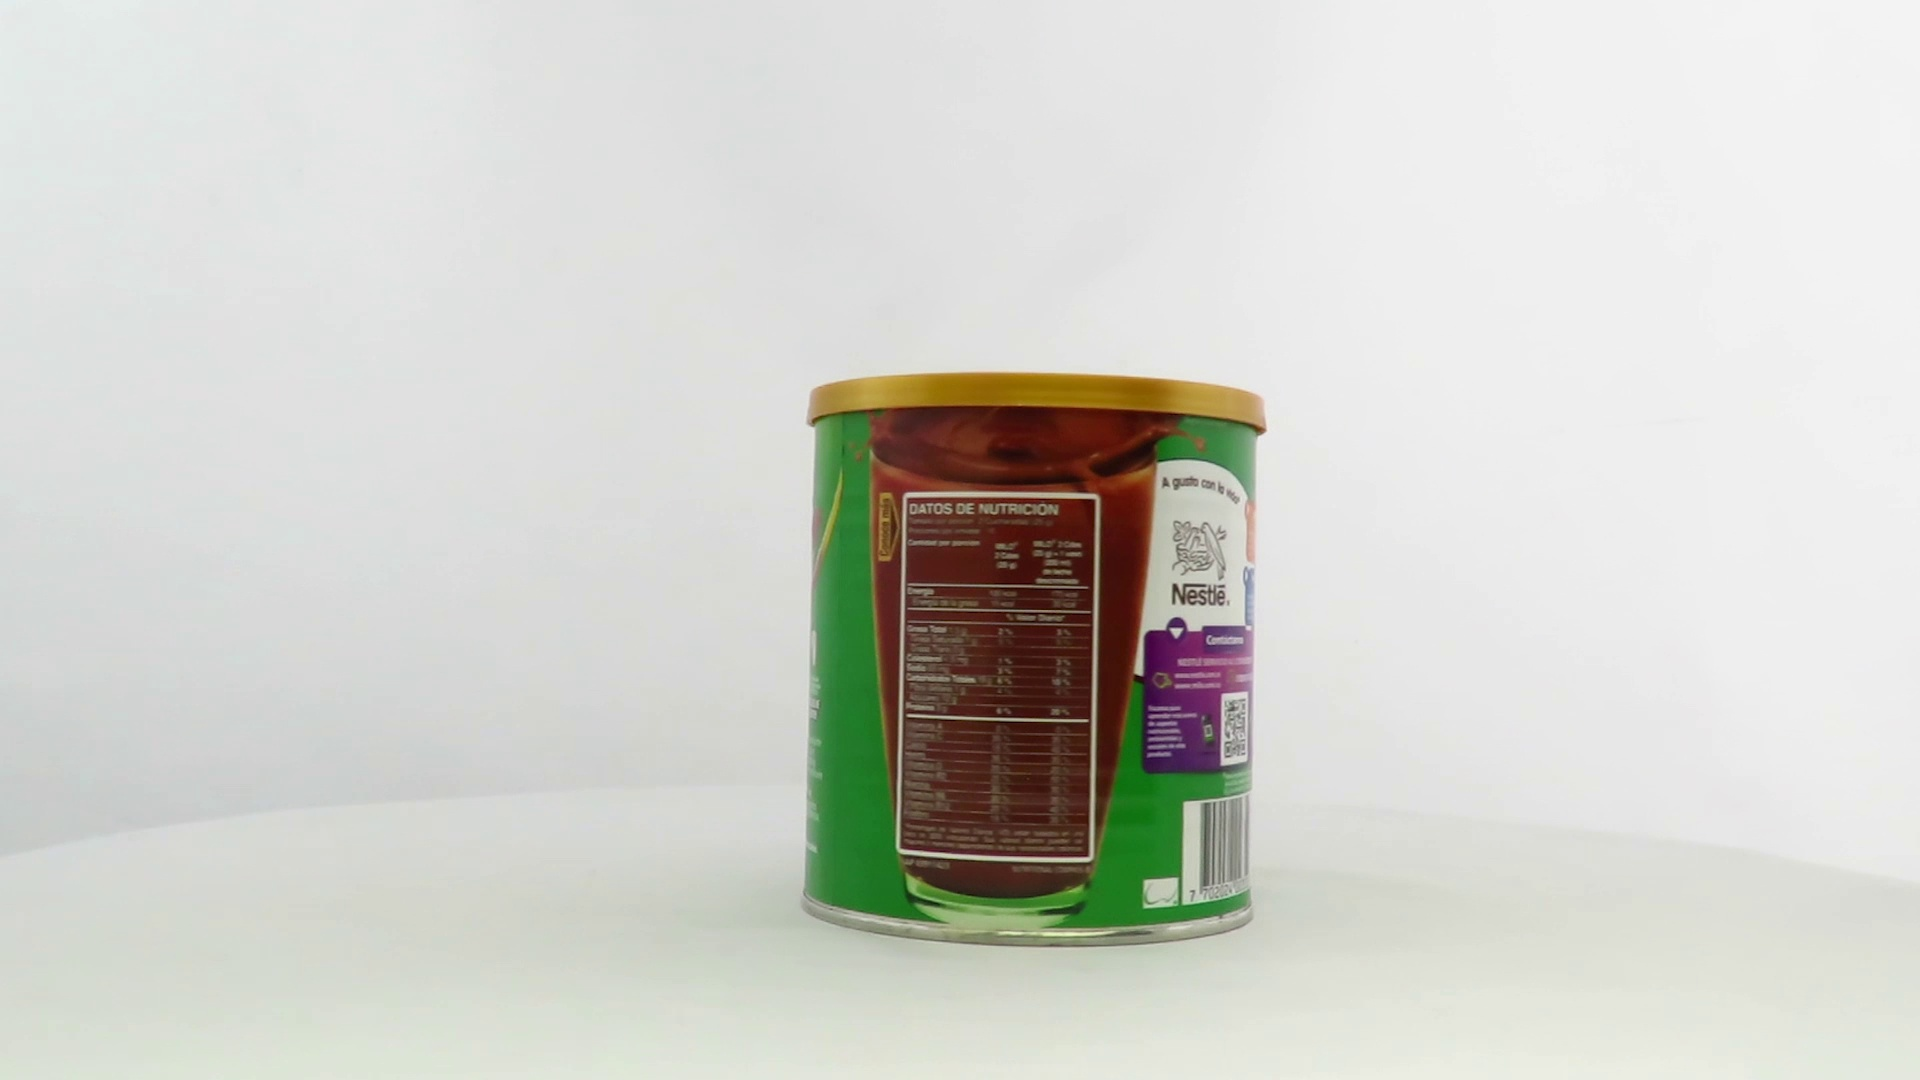COL0170203LAT40000: (795, 367, 1273, 953)
